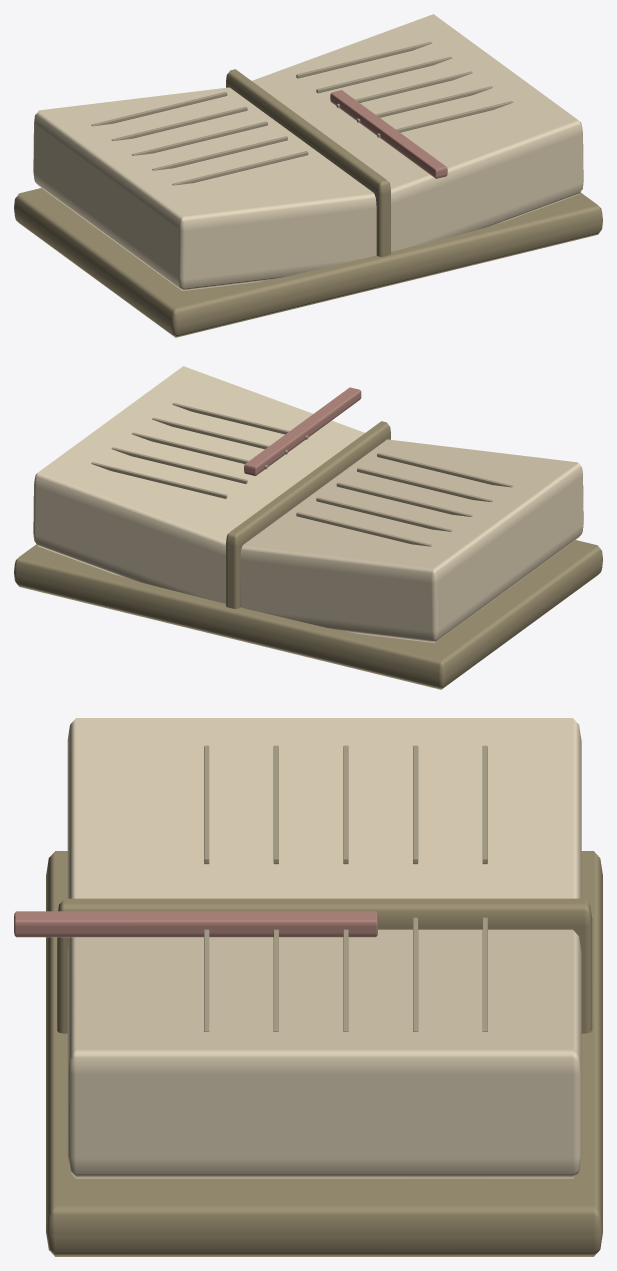
File: openjournal.glb
3 views of the same model, one above another, from view 1: azimuth 30°, elevation 25°; view 2: azimuth 150°, elevation 25°; view 3: azimuth 270°, elevation 25° (orthographic). The views are drawn at different scales.
Parts seen in each view (by area): view 1: open-page-block--1, open-page-block-1, open-book-cover, bound-gutter, ribbon-bookmark, written-line-1-1, written-line-1-0, written-line--1-2, written-line--1-0, written-line--1-4, written-line--1-3, written-line--1-1 (+3 smaller); view 2: open-page-block--1, open-page-block-1, open-book-cover, bound-gutter, ribbon-bookmark, written-line-1-0, written-line-1-1, written-line--1-0, written-line--1-1, written-line--1-4, written-line--1-2, written-line--1-3 (+3 smaller); view 3: open-page-block-1, open-page-block--1, open-book-cover, bound-gutter, ribbon-bookmark, written-line--1-3, written-line--1-0, written-line--1-1, written-line--1-2, written-line--1-4.
Boxes of the visible parts, x1,y1,x2,y2 form: open-page-block--1: [33, 87, 376, 290]; open-page-block-1: [252, 14, 583, 251]; open-book-cover: [14, 188, 602, 337]; bound-gutter: [226, 69, 390, 256]; ribbon-bookmark: [330, 90, 447, 178]; written-line-1-1: [316, 56, 452, 93]; written-line-1-0: [296, 41, 432, 78]; written-line--1-2: [131, 121, 267, 155]; written-line--1-0: [91, 91, 227, 126]; written-line--1-4: [172, 151, 308, 185]; written-line--1-3: [152, 136, 287, 170]; written-line--1-1: [111, 106, 247, 140]; open-page-block--1: [240, 439, 583, 642]; open-page-block-1: [33, 366, 364, 603]; open-book-cover: [14, 540, 602, 689]; bound-gutter: [226, 421, 390, 608]; ribbon-bookmark: [244, 387, 361, 476]; written-line-1-0: [91, 462, 227, 498]; written-line-1-1: [111, 447, 247, 483]; written-line--1-0: [296, 512, 432, 546]; written-line--1-1: [316, 497, 452, 531]; written-line--1-4: [377, 453, 512, 487]; written-line--1-2: [336, 482, 472, 516]; written-line--1-3: [357, 467, 492, 502]; open-page-block-1: [67, 929, 581, 1178]; open-page-block--1: [67, 718, 581, 898]; open-book-cover: [46, 851, 602, 1256]; bound-gutter: [57, 898, 592, 1033]; ribbon-bookmark: [14, 911, 377, 937]; written-line--1-3: [273, 745, 278, 864]; written-line--1-0: [482, 745, 487, 864]; written-line--1-1: [413, 745, 418, 864]; written-line--1-2: [343, 745, 348, 864]; written-line--1-4: [204, 745, 209, 864].
Bounding box in the file's own units: 0.8 × 0.2062 × 0.55.
